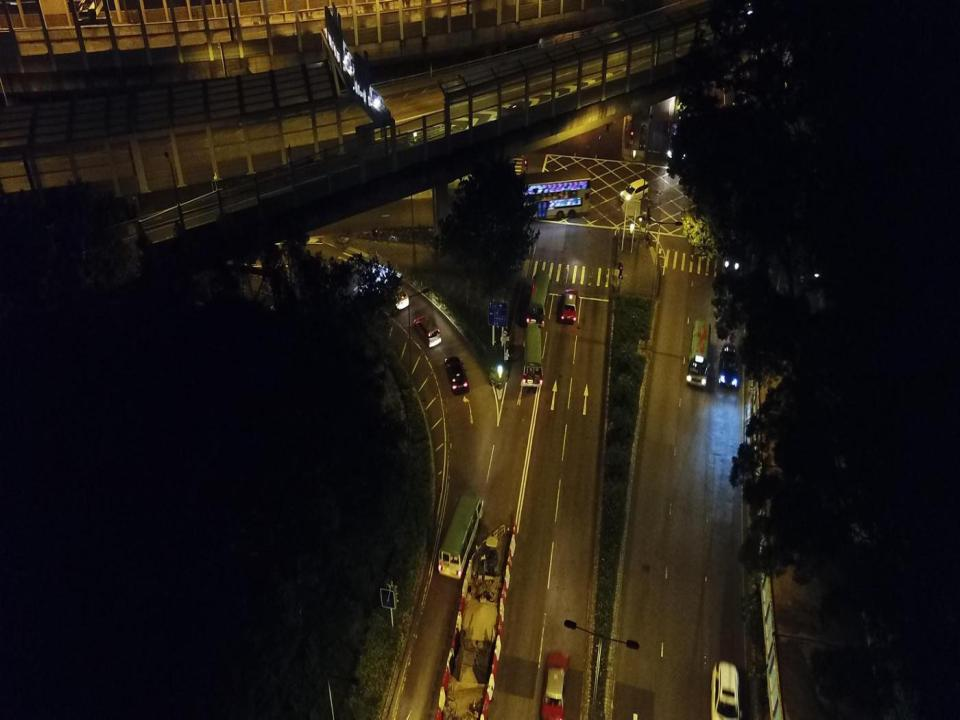bus: (514, 168, 592, 223), (437, 492, 483, 580), (686, 320, 712, 388), (520, 322, 543, 388), (526, 270, 552, 328), (521, 322, 543, 388)
car: (540, 648, 570, 719), (710, 660, 740, 719), (444, 356, 470, 394), (718, 344, 738, 389), (386, 282, 409, 311), (560, 288, 579, 322)
van: (412, 314, 441, 348), (619, 178, 649, 205)
